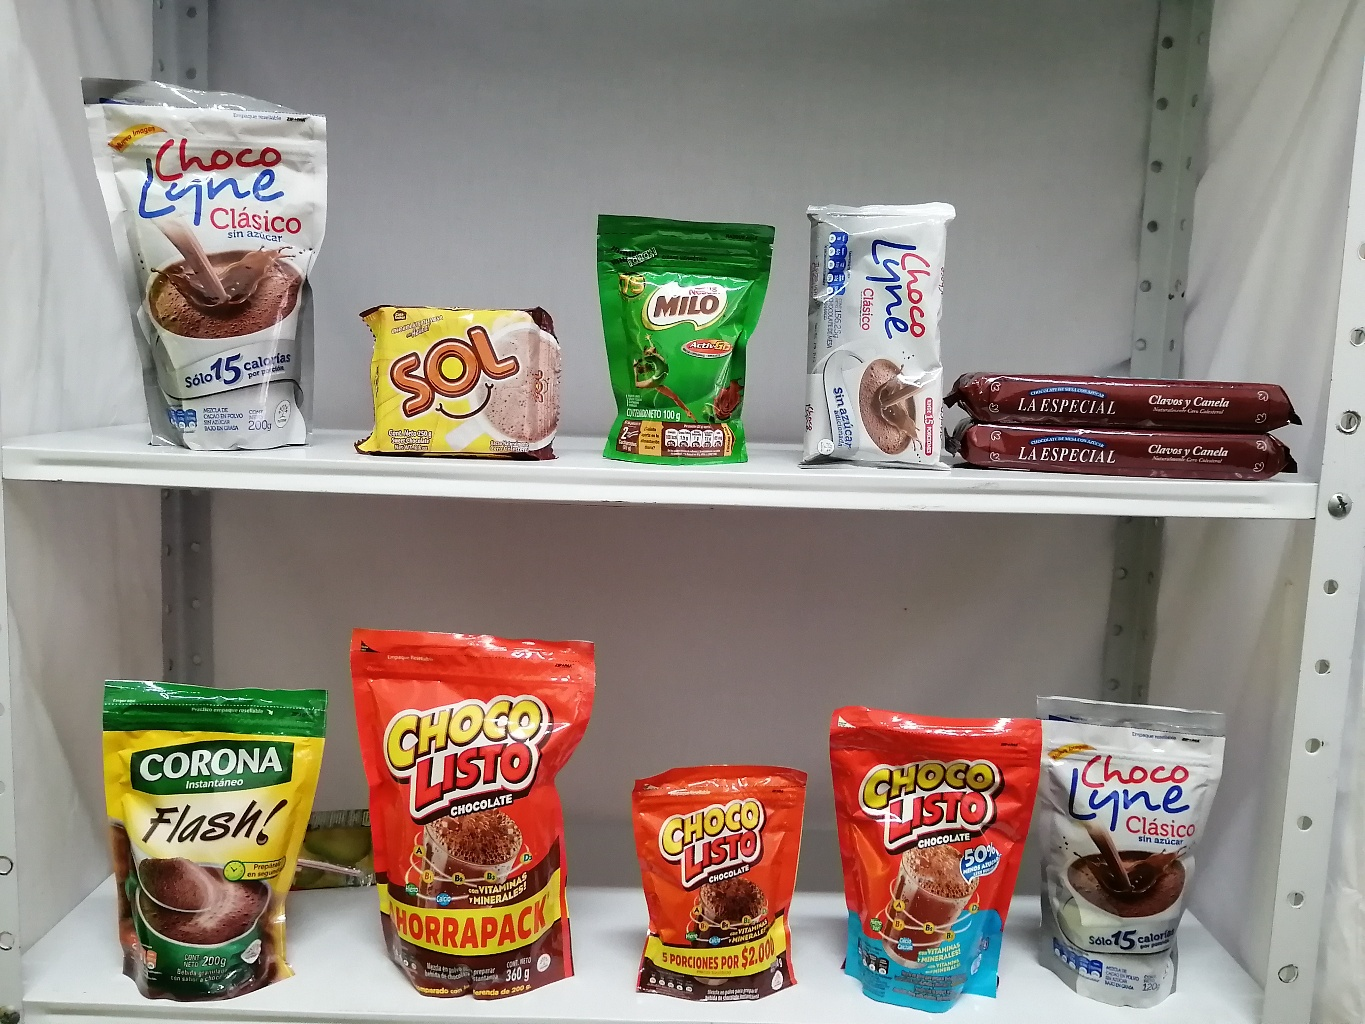COL0170103DYP36000: (330, 612, 605, 1011)
COL0170104DYP20000: (820, 701, 1046, 1016)
COL0170203DYP10000: (586, 205, 772, 468)
